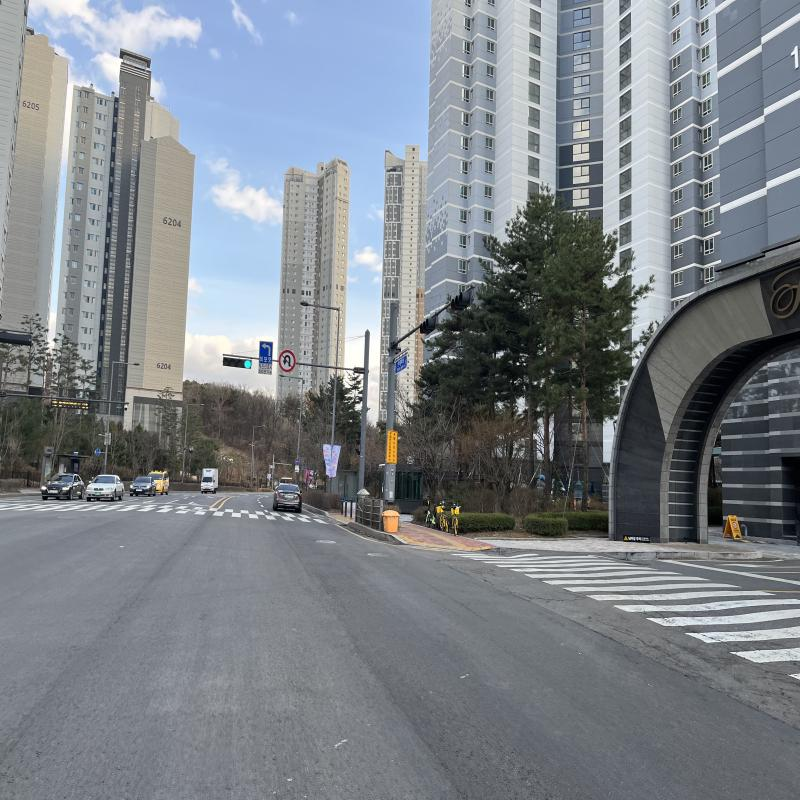green: (244, 360, 251, 368)
